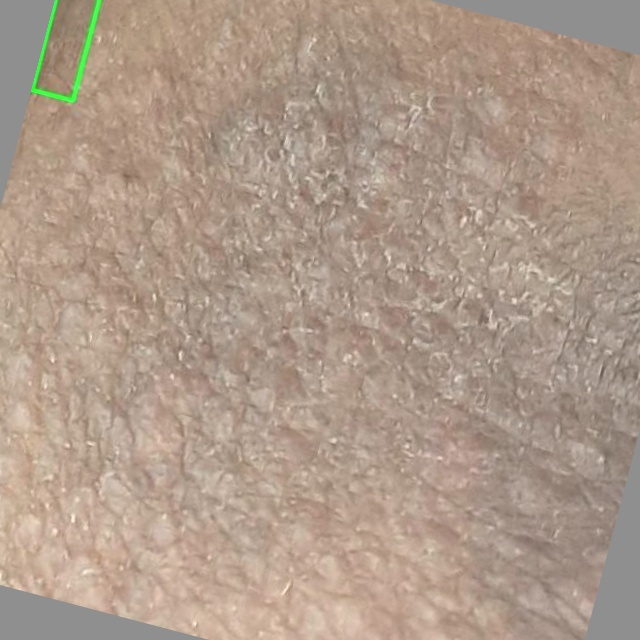Contact Dermatitis: (32, 0, 99, 100)
